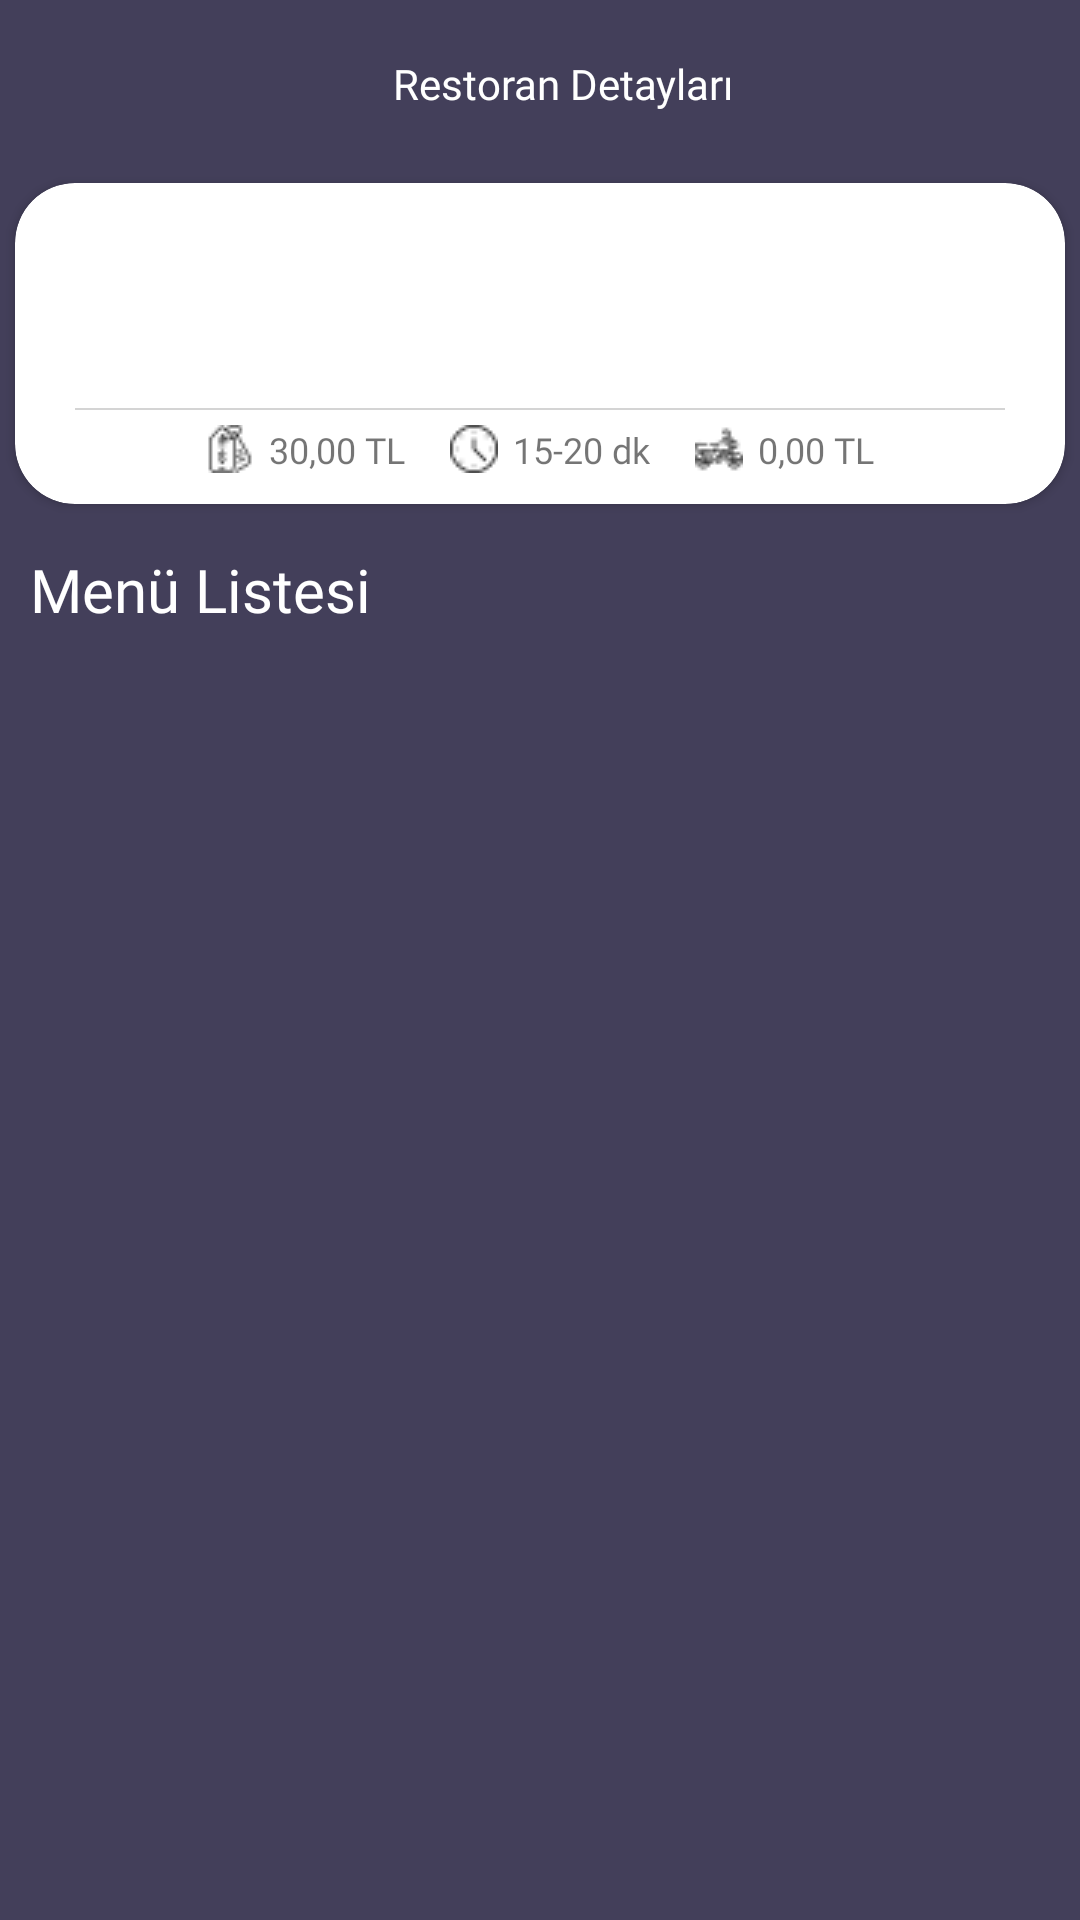

Icons on this 1080px×1920px Android screen, each with its box as (x1=x1, y1=y1, x2=x2, y2=y2):
clock: (x1=450, y1=425, x2=498, y2=473)
motorcycle: (x1=695, y1=427, x2=743, y2=471)
price: (x1=208, y1=425, x2=252, y2=473)
